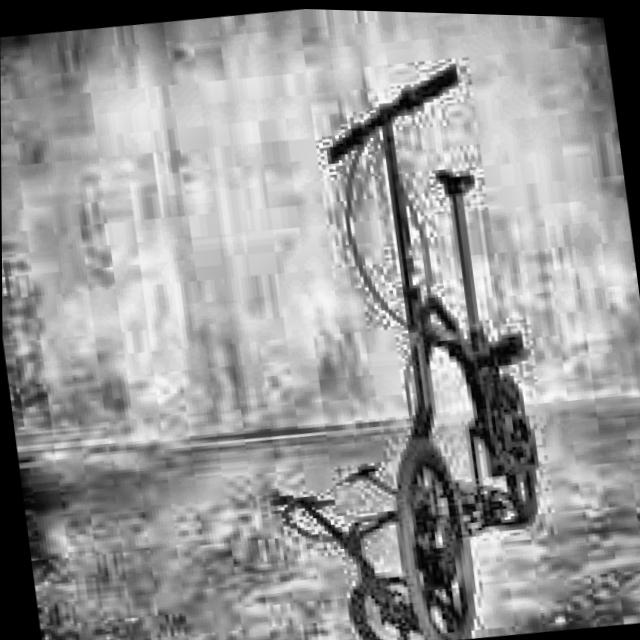motorcycle: (281, 35, 569, 640)
